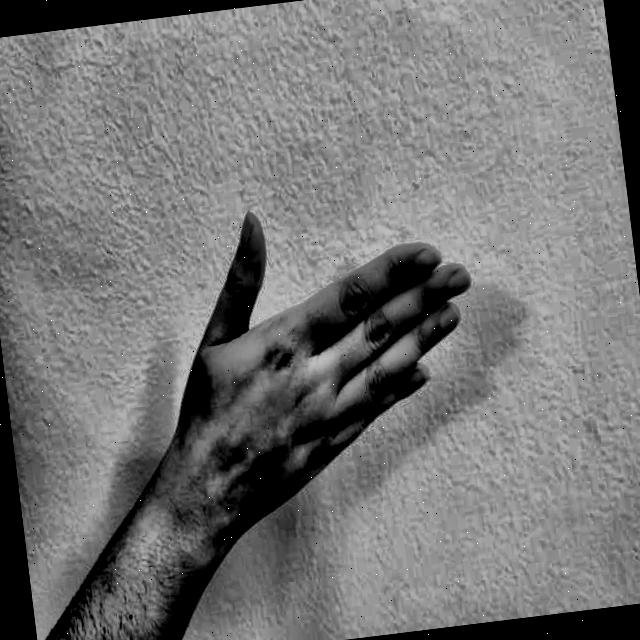Aa: (136, 138, 527, 580)
